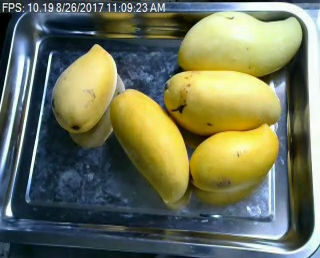Mango: (110, 85, 188, 205), (161, 70, 290, 136), (181, 10, 299, 77), (45, 42, 120, 137), (186, 123, 282, 190)
